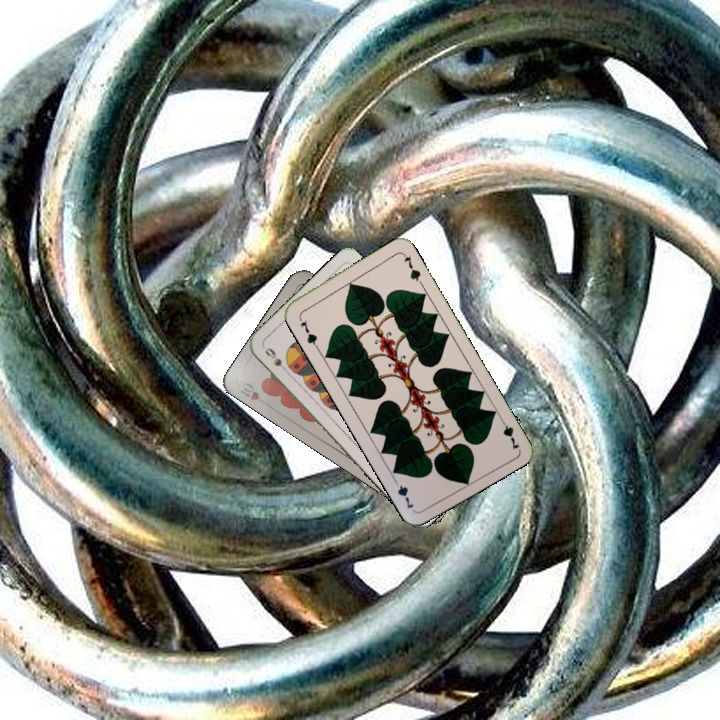G7: (496, 413, 522, 452), (295, 313, 320, 350)
H10: (235, 378, 271, 408)
S9: (261, 344, 292, 376)
